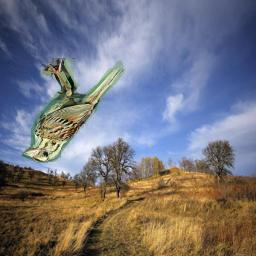Sparrow: (22, 59, 127, 164)
